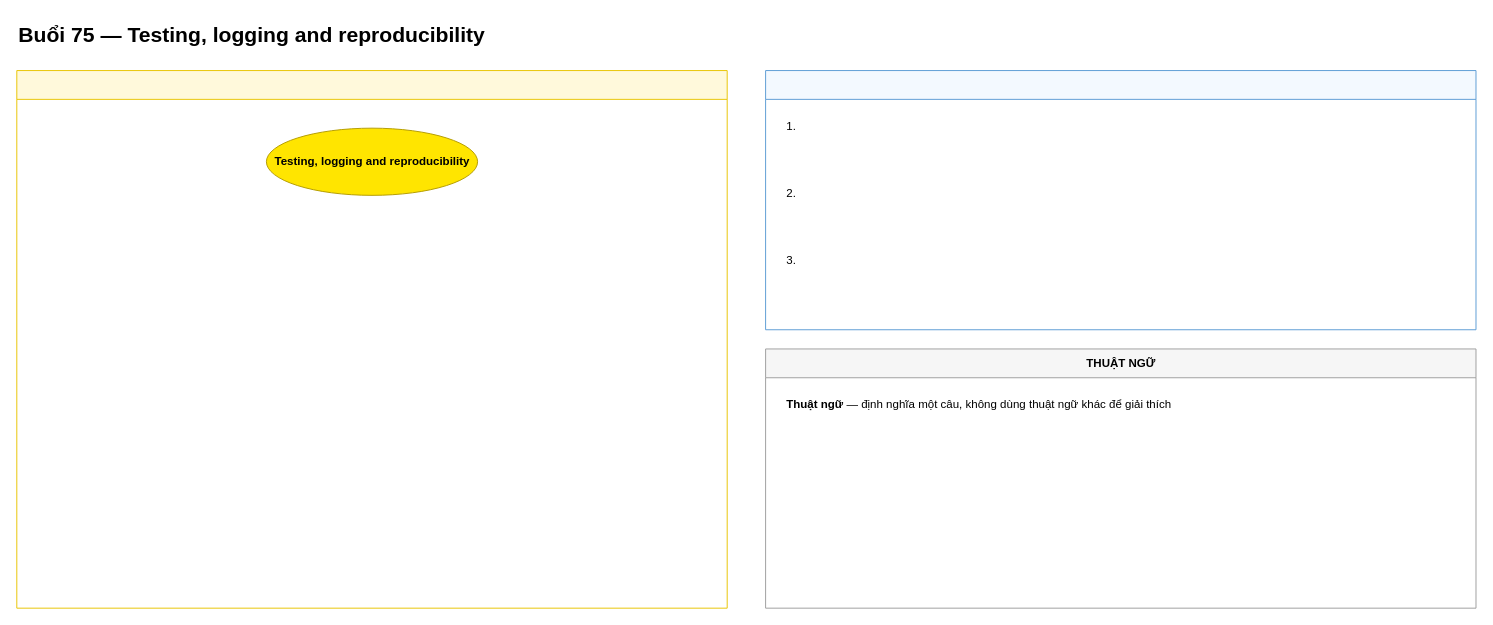
Some shapes in this 1493 by 625 pixel diagram are drawn without their labels. The shapes that lost their labels are listed below. From the top down, each one's box as (x1, y1, x2, y2) in pixels, then its label:
(765, 70, 1476, 330): KEY TAKEAWAY — ba điều phải nhớ
(16, 70, 727, 608): MINDMAP
